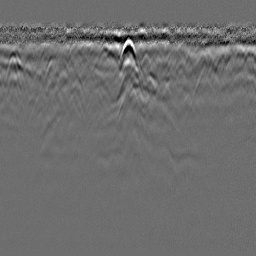cavity: (118, 36, 138, 68)
